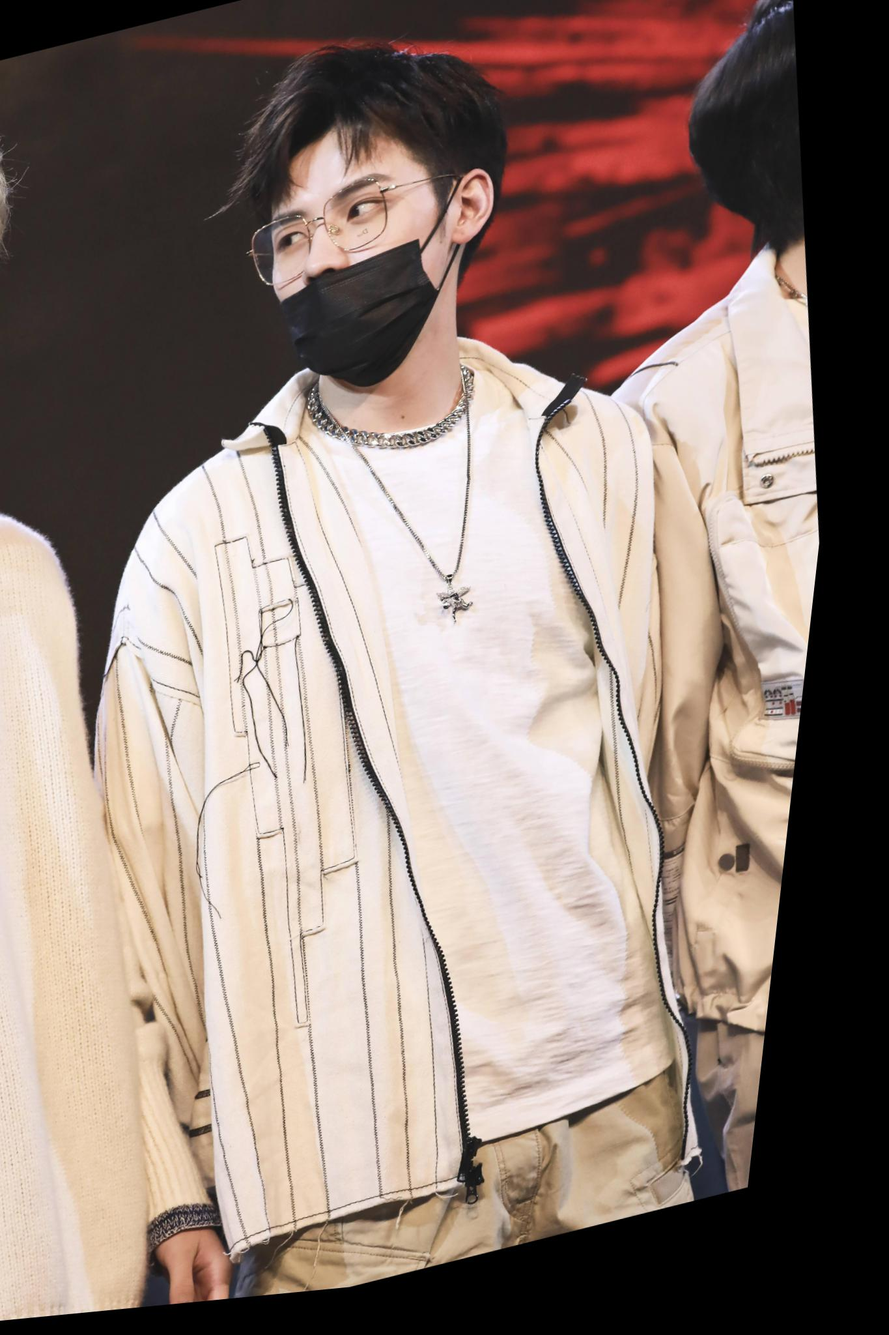NONE: (1, 211, 11, 421)
WRONG: (256, 158, 468, 408)
